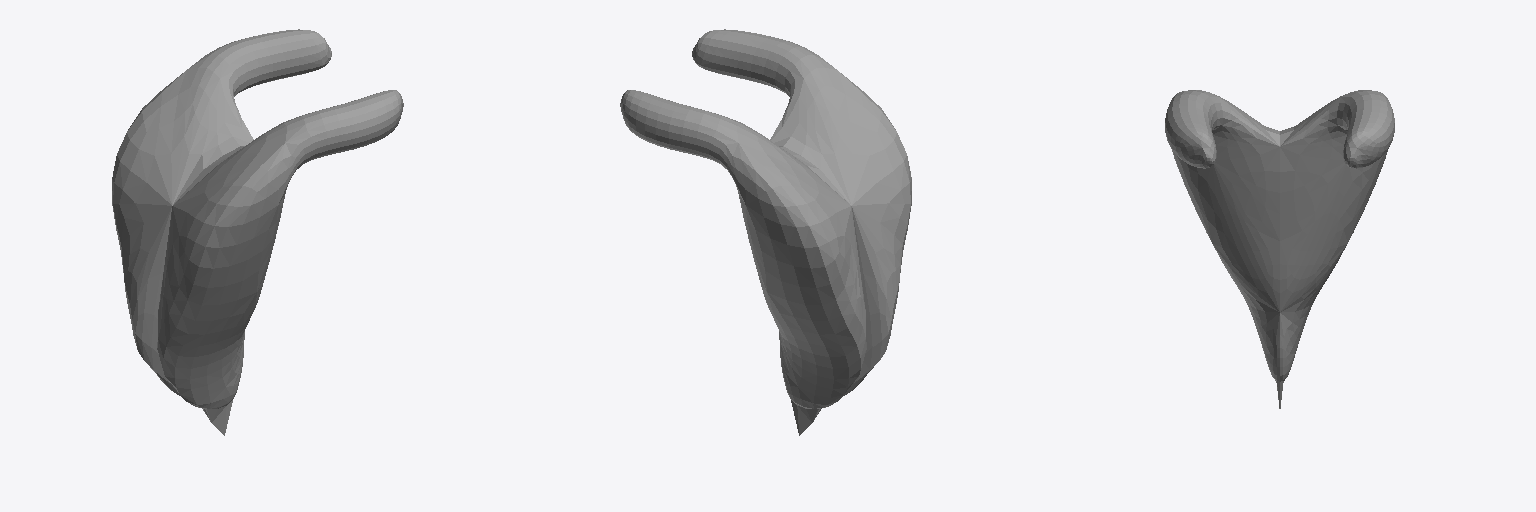
The model's file is wraith.obj.
3 renders of one model, left to right at view 1: azimuth 30°, elevation 25°; view 2: azimuth 150°, elevation 25°; view 3: azimuth 270°, elevation 25°, orthographic.
Visible parts, largest first — view 1: Cube; view 2: Cube; view 3: Cube.
Boxes of the visible parts, box(x1,y1,x2,y2) form: Cube: box(112, 29, 403, 435); Cube: box(620, 29, 911, 435); Cube: box(1165, 90, 1394, 408).
Bounding box in the file's own units: 0.6592 × 0.9815 × 0.593.